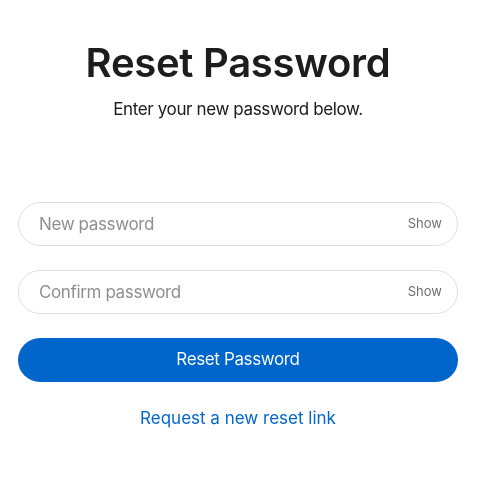
it: ResetPasswordPage - Validation › should validate password length - minimum 6 characters
This screenshot has width=477, height=477.
In the password field with placeholder "New password": (238, 224) [18, 202, 458, 246], type "12345"
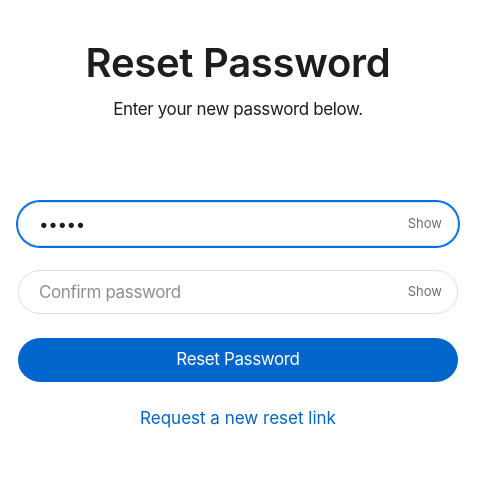
In the password field with placeholder "Confirm password": (238, 292) [18, 270, 458, 314], type "12345"
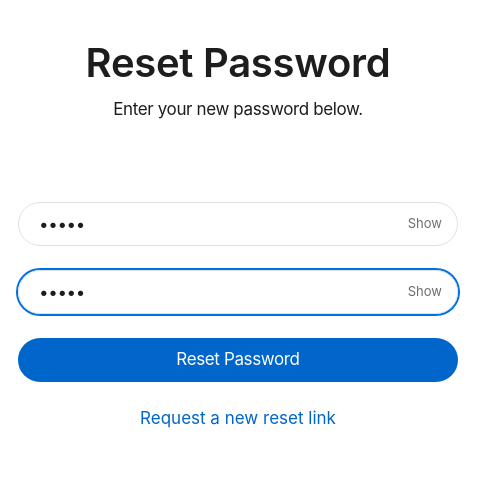
Click the button "Reset Password": (238, 360) [18, 338, 458, 382]
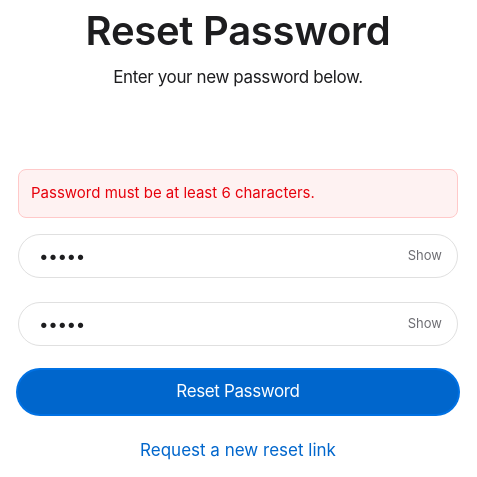
Now the text "Password must be at least 6 characters." is shown, box [18, 170, 458, 218]
